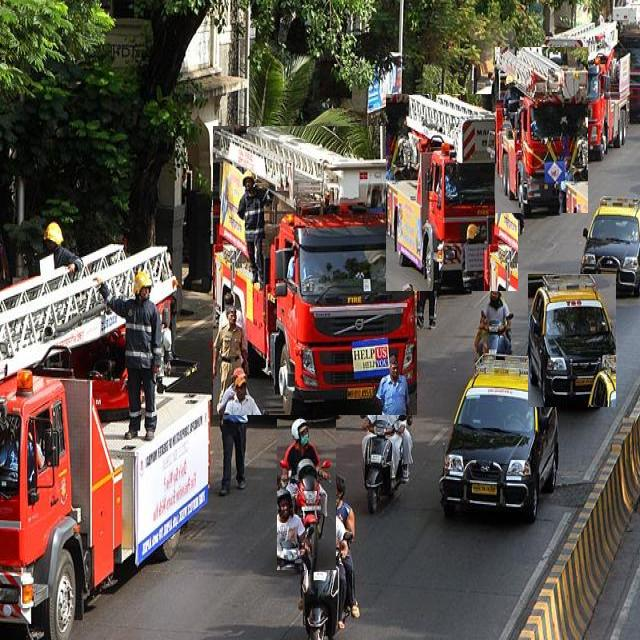car: (440, 357, 559, 521), (528, 275, 616, 407), (581, 197, 640, 296)
emergency: (0, 245, 208, 638), (213, 126, 416, 415), (386, 95, 518, 291), (495, 47, 588, 213)
motorcycle: (294, 477, 360, 638), (277, 416, 335, 570), (361, 368, 412, 512)
